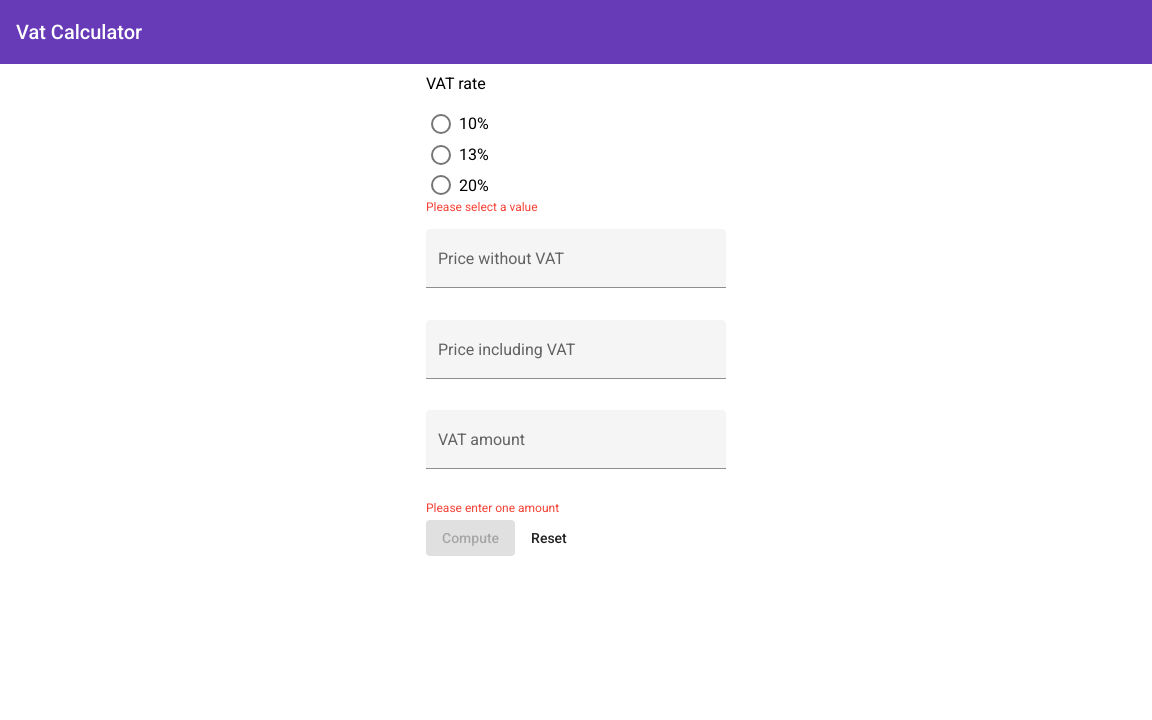
should correctly compute the price without VAT and the price with VAT given a valid VAT rate and VAT amount
Click the text "10%".
click(474, 124)  # box [459, 114, 489, 133]
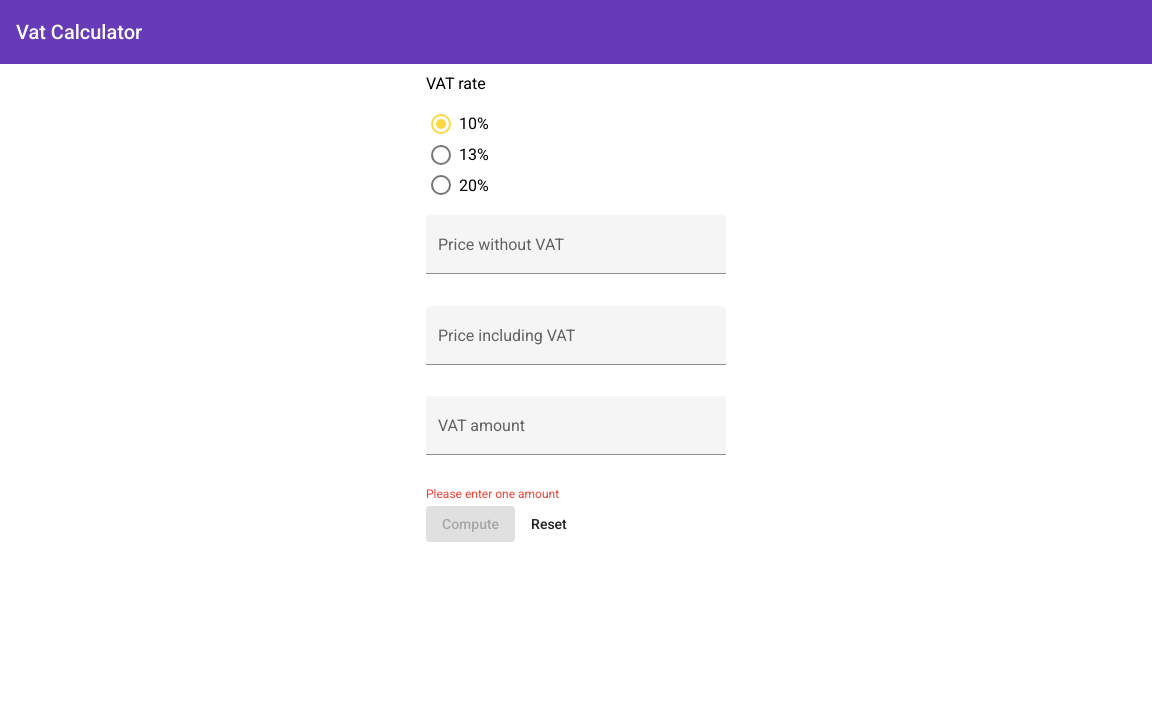
Type "1" into the element showing "VAT amount".
click(576, 437); type("1")  # box [426, 396, 726, 477]
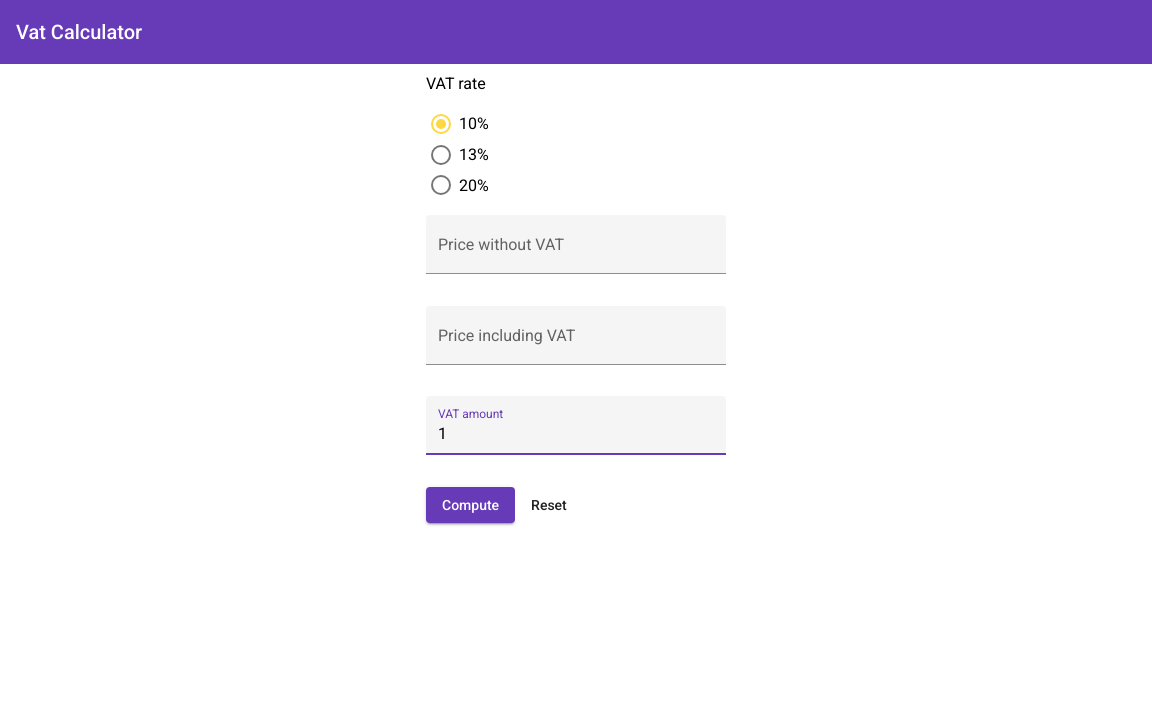
Click the submit button.
click(471, 505)  # box [426, 487, 515, 523]
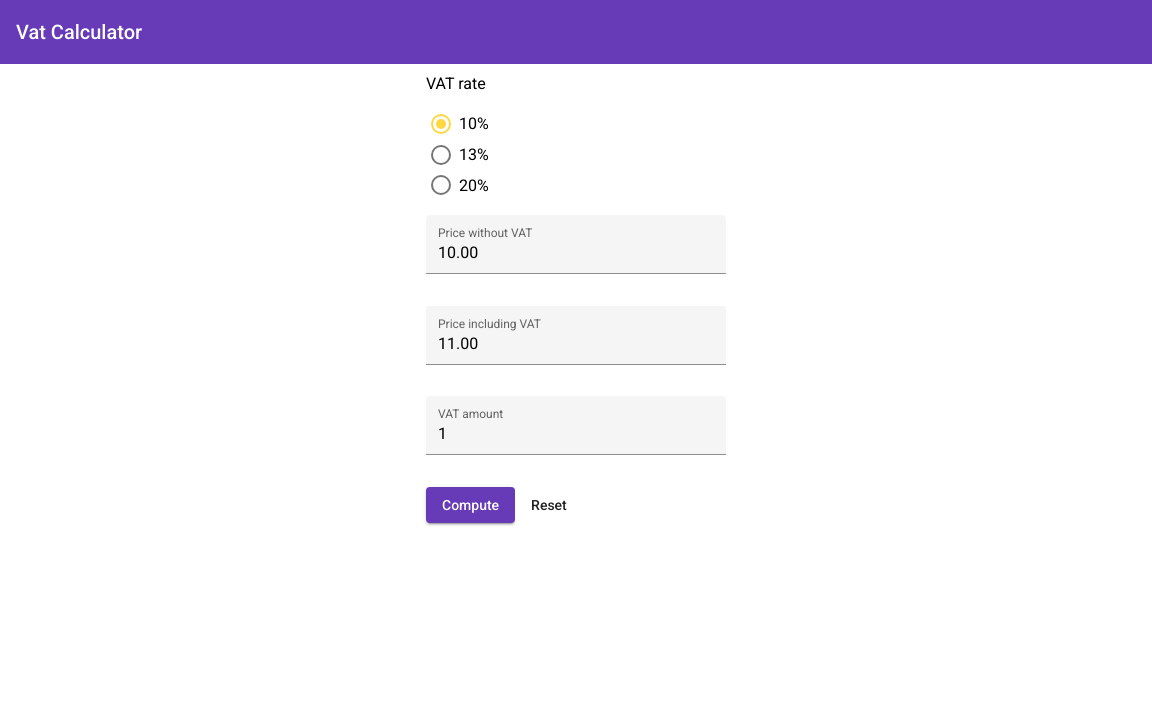
Check: the field labelled "Price without VAT" holds "10.00", box [438, 244, 714, 262]
Check: the field labelled "Price including VAT" holds "11.00", box [438, 335, 714, 353]
